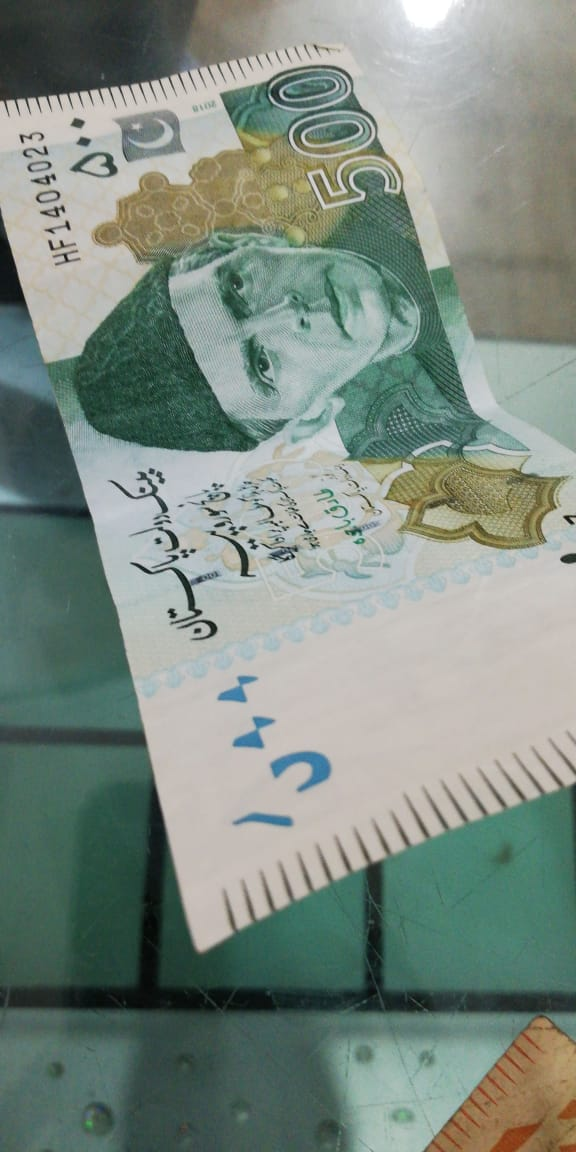500 rupee: (13, 56, 567, 961)
